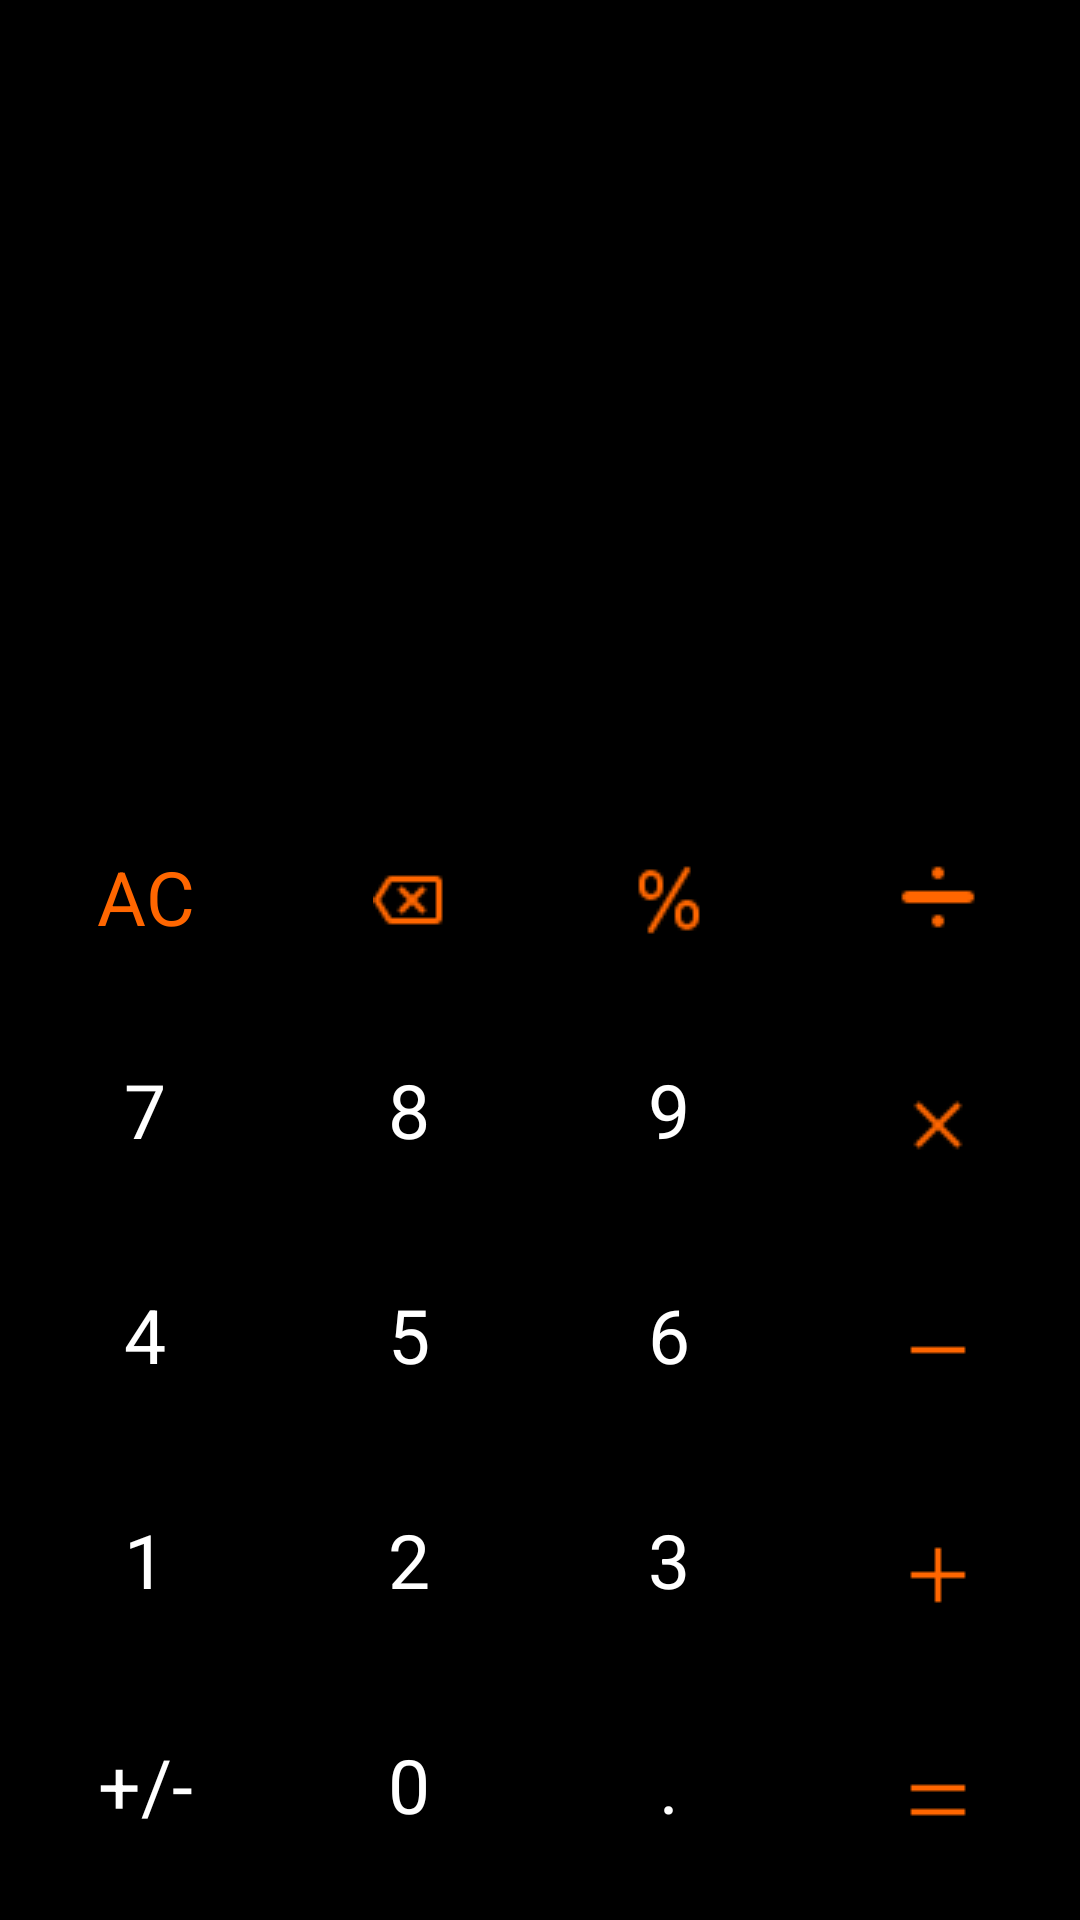

Point at icon controls on the screen. Image size 1080×1920, points as [x,y].
backspace: [408,900]
divide: [938,897]
equals: [938,1800]
multiply: [938,1125]
percent: [669,900]
plus: [938,1575]
